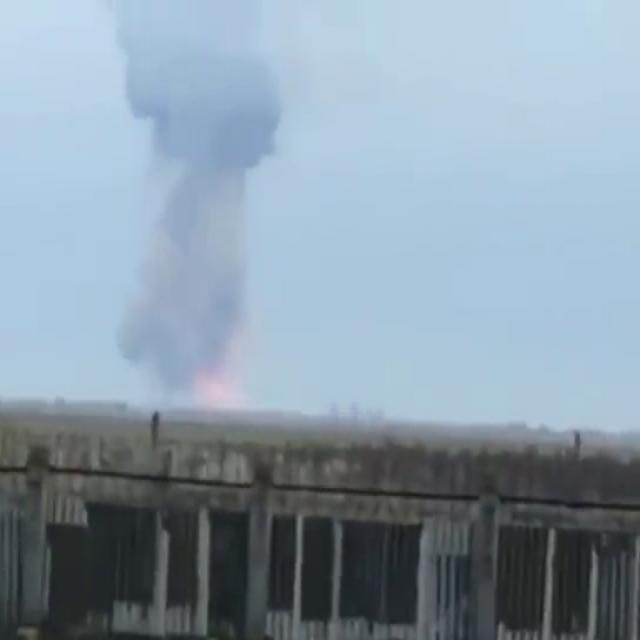Smoke: (120, 46, 281, 376)
